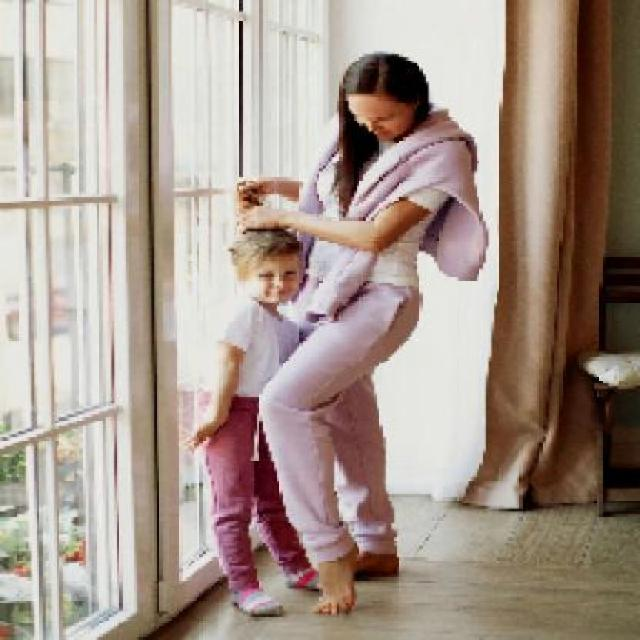child: (182, 227, 322, 619)
